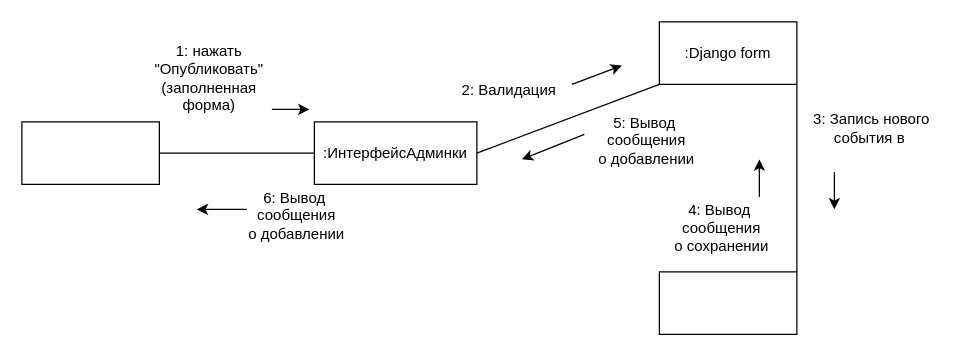
This 969x356 diagram has some shape labels left out. The shapes that lost their labels are listed below. From the top down, each one's centre as x and y in pixels, then its label:
At (90,152): ":Администратор".
At (727,302): ":БД postgre".
